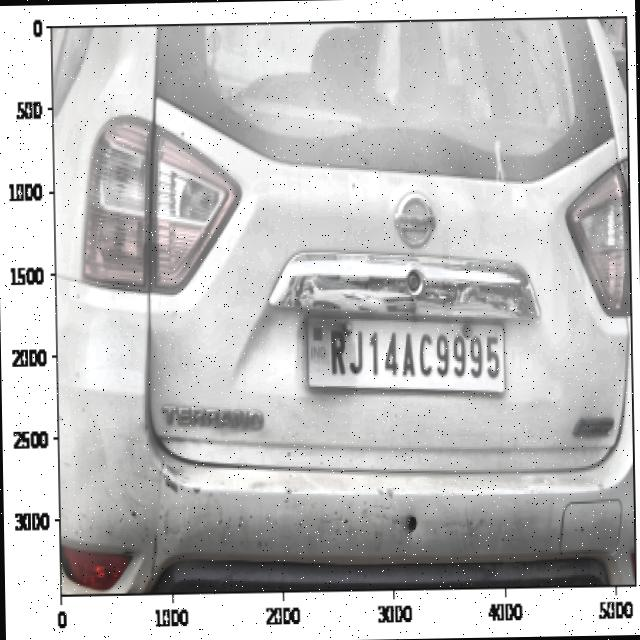license_plate: (326, 321, 504, 394)
